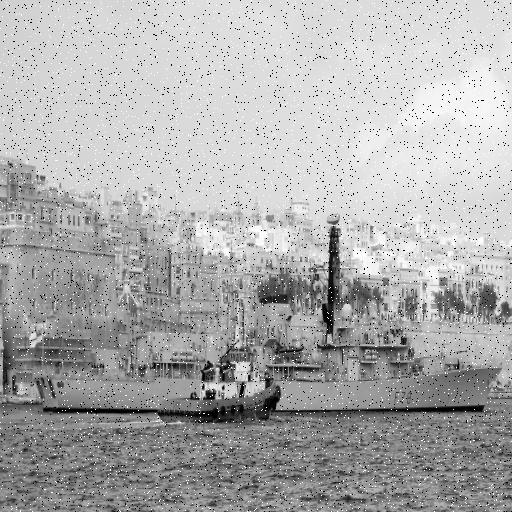Fragata: (37, 200, 504, 420)
